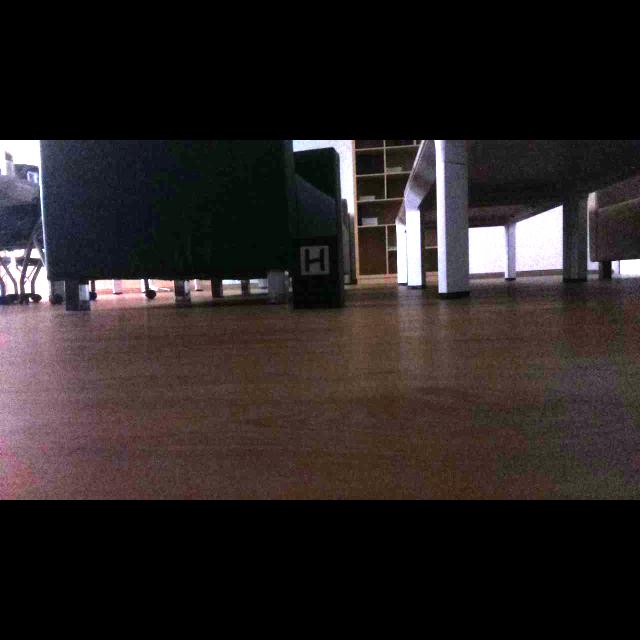H: (305, 248, 325, 272)
